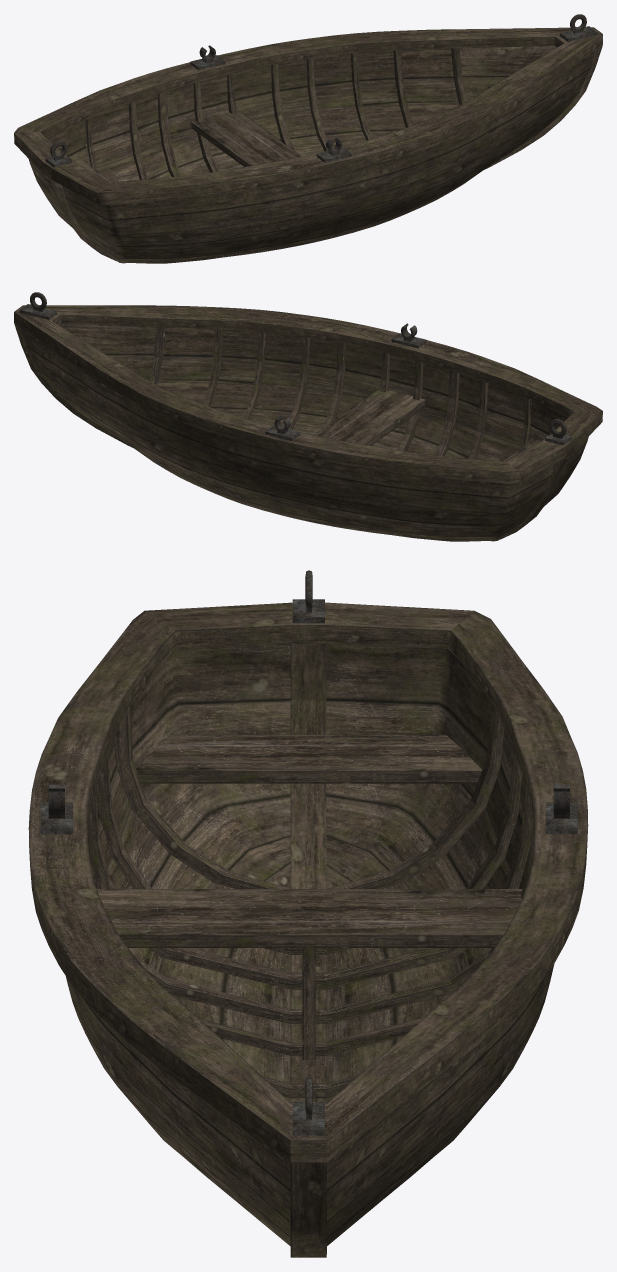
The model's file is Boat.fbx.
3 views of the same model, one above another, from view 1: azimuth 30°, elevation 25°; view 2: azimuth 150°, elevation 25°; view 3: azimuth 270°, elevation 25° (orthographic). The views are drawn at different scales.
Parts seen in each view (by area): view 1: Boat; view 2: Boat; view 3: Boat.
Boxes of the visible parts, x1=… form: Boat: x1=14, y1=14, x2=602, y2=263; Boat: x1=14, y1=292, x2=602, y2=541; Boat: x1=28, y1=570, x2=588, y2=1257.
Size of the model in its own units: 337 by 82.94 by 148.
